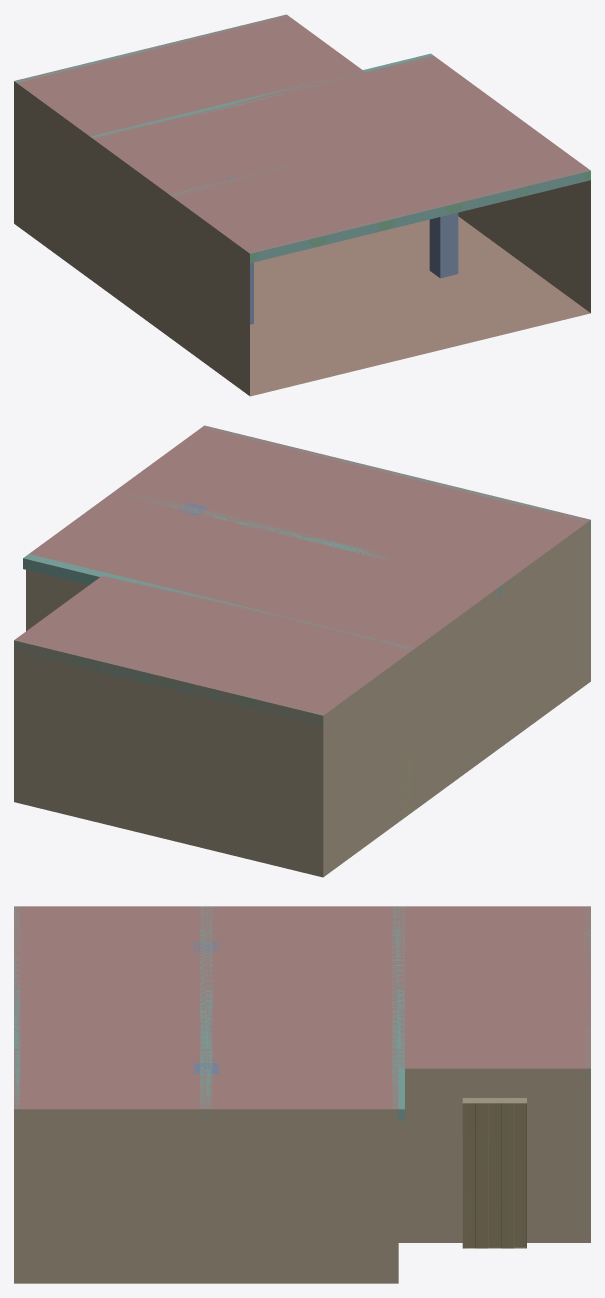
The model's file is TavernGreybox.fbx.
3 views of the same model, one above another, from view 1: azimuth 30°, elevation 25°; view 2: azimuth 150°, elevation 25°; view 3: azimuth 270°, elevation 25° (orthographic). The views are drawn at different scales.
Visible parts, largest first — view 1: pPlane44 (×2), pPlane41 (×2), pPlane43 (×2), pPlane42 (×2), pPlane35, pPlane34, pPlane36, pPlane45 (×2), pPlane39, pPlane38, pPlane40 (×2), pPlane32 (+5 smaller); view 2: pPlane28, pPlane27, pPlane34, pPlane36, pPlane35, pPlane38, pPlane39, pPlane42, pPlane43, pPlane44, pPlane41, pPlane45 (+6 smaller); view 3: pPlane31, pPlane32, pPlane29, pPlane42, pPlane38, pPlane43, pPlane39, pPlane41, pPlane44, pPlane46, pPlane45, pPlane40 (+3 smaller).
Part boxes in pixels (<box>): pPlane44 (×2): <box>308,130,522,363</box>; pPlane41 (×2): <box>229,72,443,305</box>; pPlane43 (×2): <box>171,163,385,396</box>; pPlane42 (×2): <box>93,105,307,318</box>; pPlane35: <box>92,139,171,338</box>; pPlane34: <box>14,81,92,280</box>; pPlane36: <box>171,196,249,395</box>; pPlane45 (×2): <box>444,113,590,329</box>; pPlane39: <box>151,14,364,104</box>; pPlane38: <box>14,48,227,138</box>; pPlane40 (×2): <box>366,55,511,268</box>; pPlane32: <box>512,180,590,312</box>; pPlane28: <box>168,678,323,877</box>; pPlane27: <box>14,640,168,839</box>; pPlane34: <box>323,651,412,876</box>; pPlane36: <box>501,520,590,746</box>; pPlane35: <box>412,586,501,811</box>; pPlane38: <box>169,613,411,715</box>; pPlane39: <box>14,576,257,677</box>; pPlane42: <box>258,548,501,650</box>; pPlane43: <box>348,482,590,584</box>; pPlane44: <box>193,444,435,546</box>; pPlane41: <box>106,510,346,612</box>; pPlane45: <box>115,425,280,509</box>; pPlane31: <box>206,1109,398,1283</box>; pPlane32: <box>14,1109,206,1283</box>; pPlane29: <box>398,1068,590,1248</box>; pPlane42: <box>206,906,398,987</box>; pPlane38: <box>398,906,590,987</box>; pPlane43: <box>14,906,206,987</box>; pPlane39: <box>399,987,590,1068</box>; pPlane41: <box>206,987,398,1068</box>; pPlane44: <box>14,987,206,1068</box>; pPlane46: <box>462,1103,526,1248</box>; pPlane45: <box>14,1068,206,1109</box>; pPlane40: <box>206,1068,398,1109</box>.
Size of the model in its own units: 750 by 300 by 900.
